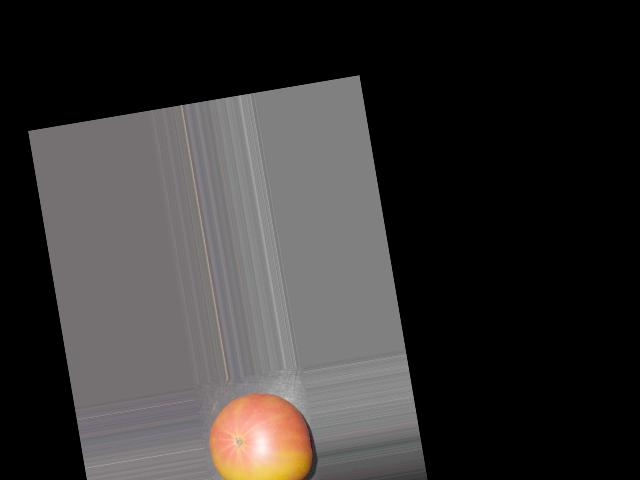tomato: (202, 385, 319, 480)
